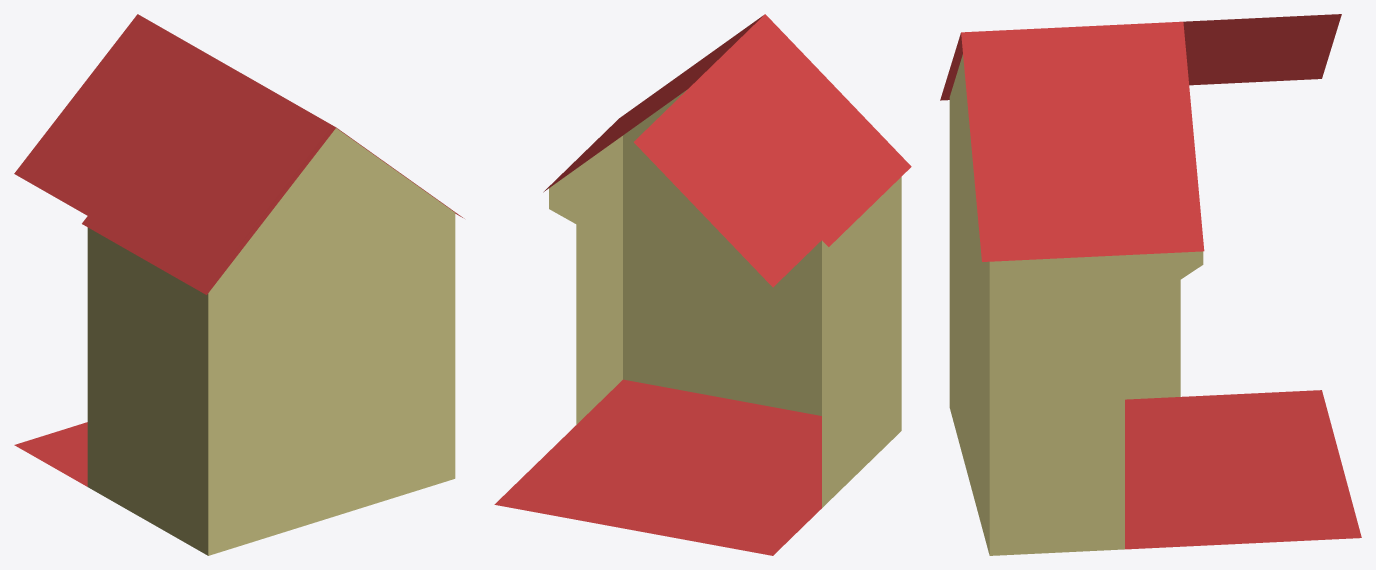
The picture shows the model from 3 angles, left to right: view 1: azimuth 30°, elevation 25°; view 2: azimuth 150°, elevation 25°; view 3: azimuth 270°, elevation 25°; orthographic projection. The views are drawn at different scales.
Bounding box in the file's own units: 11.49 × 12.05 × 14.19.
